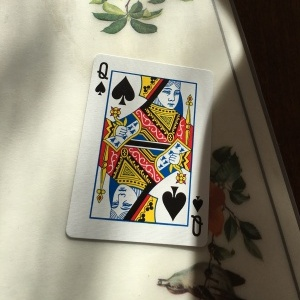card: (65, 55, 214, 245)
